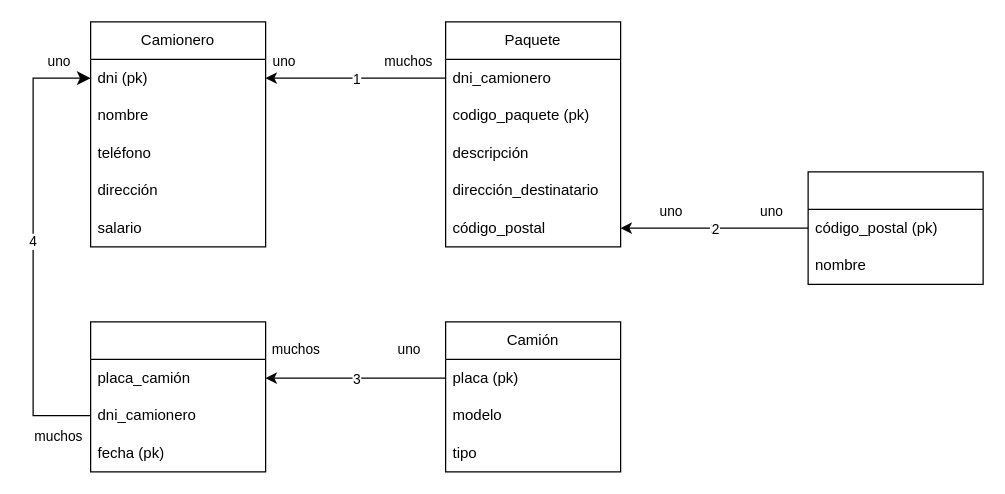
The diagram is 1005 pixels wide and 494 high, and some of its shapes have lost their labels. Each missing label, with the box of its shape:
Ciudad: (807, 171, 983, 284)
Conduce: (89, 321, 266, 472)
